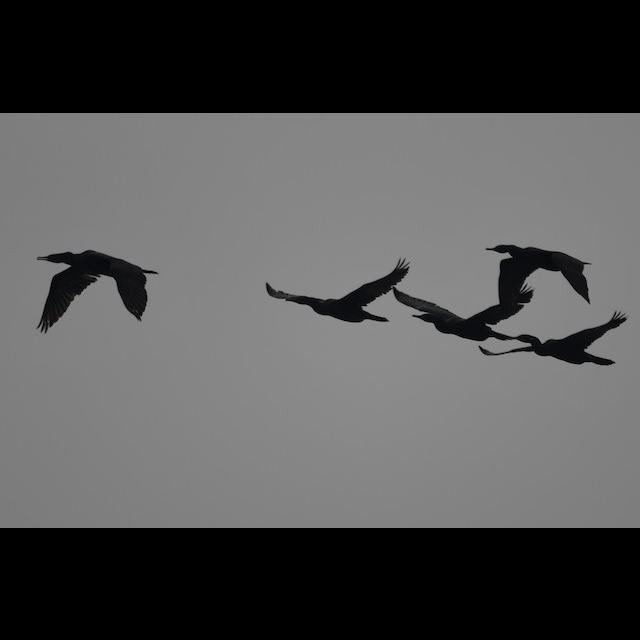cormorant: (34, 248, 156, 326), (256, 266, 400, 324), (514, 310, 630, 374), (484, 238, 594, 290), (408, 294, 514, 346)
